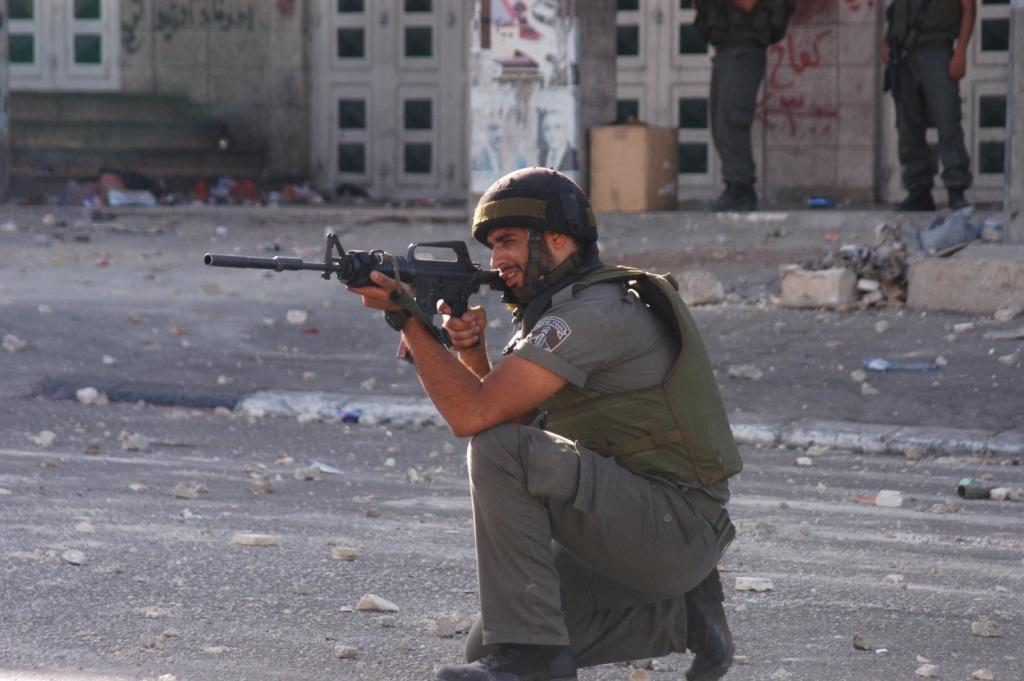face: (489, 215, 555, 297)
